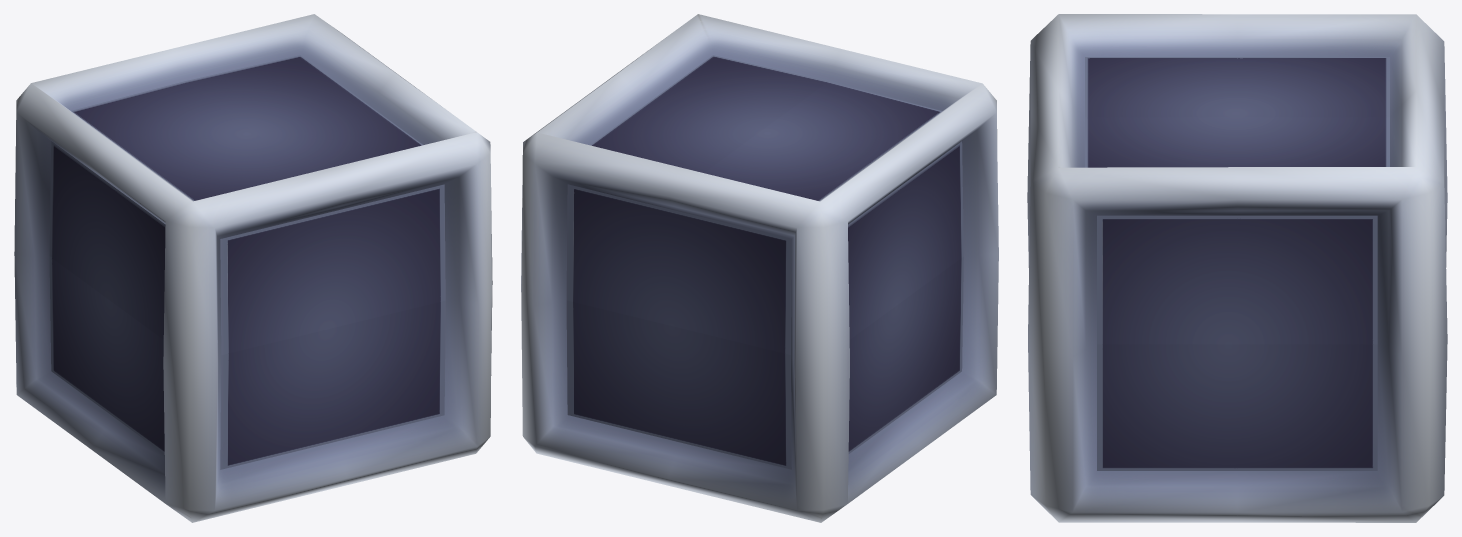
3 renders of one model, left to right at view 1: azimuth 30°, elevation 25°; view 2: azimuth 150°, elevation 25°; view 3: azimuth 270°, elevation 25°, orthographic. The views are drawn at different scales.
Visible parts, largest first — view 1: Box; view 2: Box; view 3: Box.
Boxes of the visible parts, box(x1,y1,x2,y2) form: Box: box(14, 14, 492, 522); Box: box(521, 14, 998, 522); Box: box(1027, 14, 1447, 522).
Size of the model in its own units: 200 by 187 by 200.
